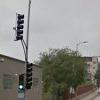Traffic light: (10, 9, 37, 92)
